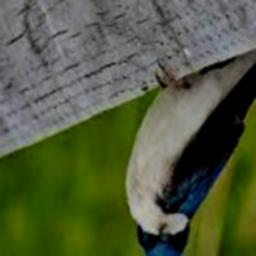Swallow: (126, 38, 256, 256)
